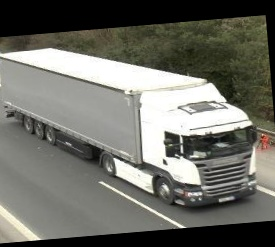truck: (0, 32, 262, 222)
